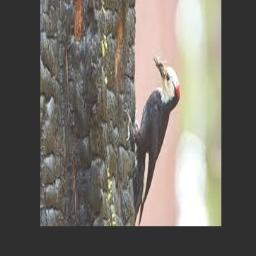Woodpecker: (124, 52, 179, 226)
